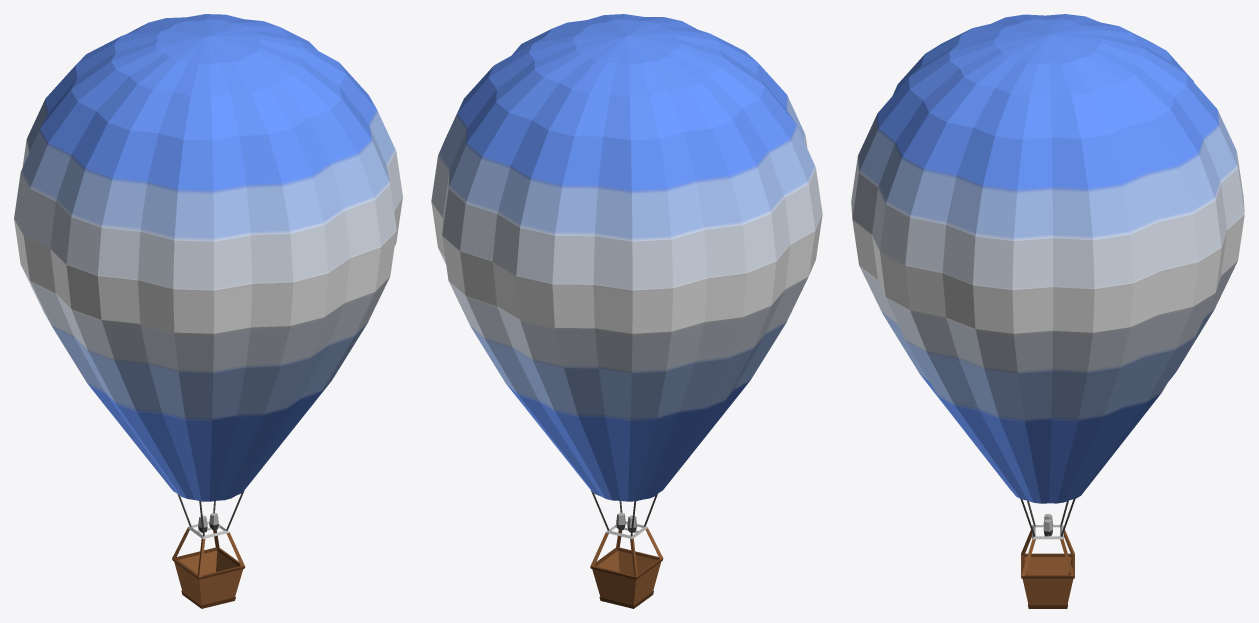
File: pointer.glb
The picture shows the model from 3 angles, left to right: view 1: azimuth 30°, elevation 25°; view 2: azimuth 150°, elevation 25°; view 3: azimuth 270°, elevation 25°; orthographic projection.
Visible parts, largest first — view 1: Hot Air Balloon; view 2: Hot Air Balloon; view 3: Hot Air Balloon.
Part boxes in pixels (x1,y1,x2,y2): Hot Air Balloon: (14,14,402,608); Hot Air Balloon: (431,14,822,608); Hot Air Balloon: (851,14,1244,608).
Bounding box in the file's own units: 11.56 × 18.57 × 11.72.
Materials: 1 (1 with a texture image).
